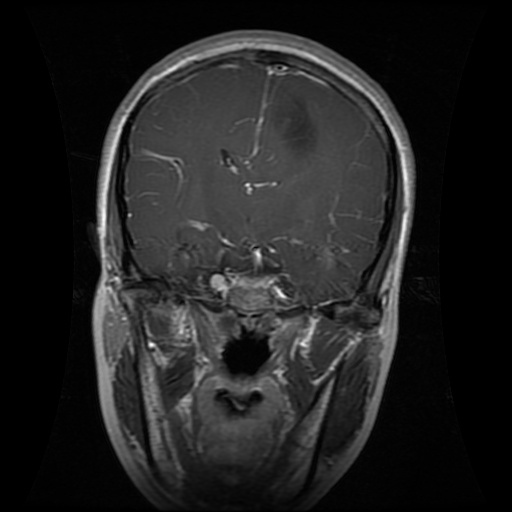glioma: (272, 93, 320, 158)
